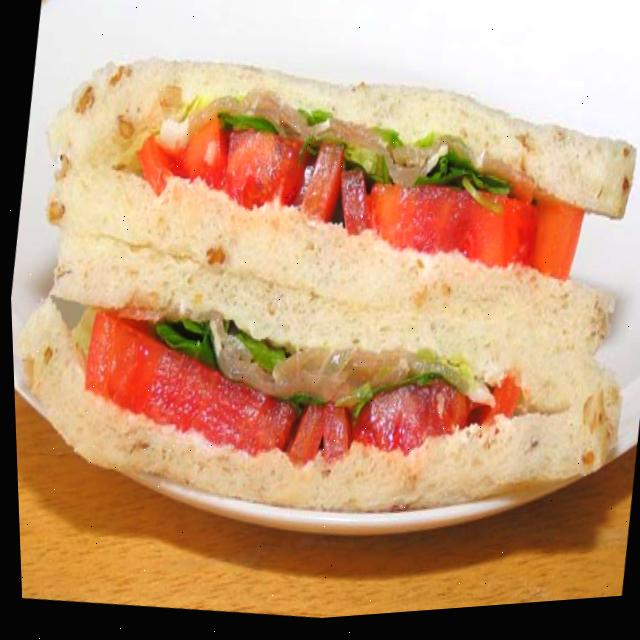三明治: (2, 22, 640, 576)
